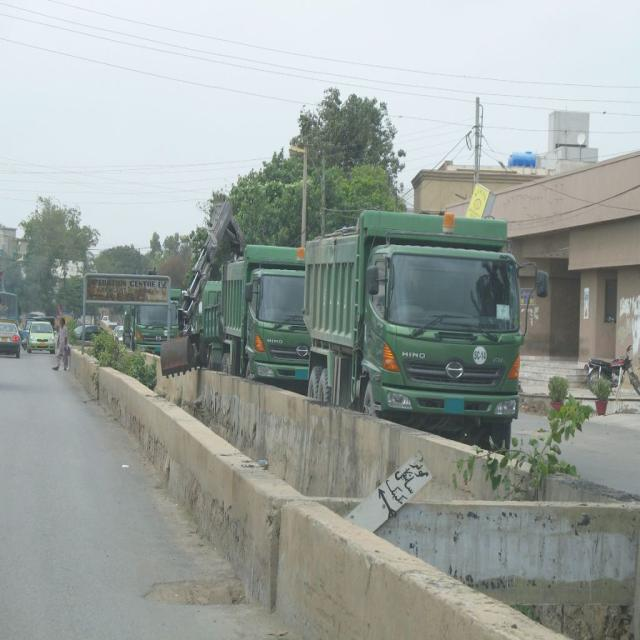Heavy Duty Truck: (303, 208, 548, 467), (219, 242, 311, 391)
Passenger Car: (128, 285, 182, 357), (24, 320, 57, 356), (1, 319, 23, 364)
Pedestrians: (51, 317, 71, 374)
